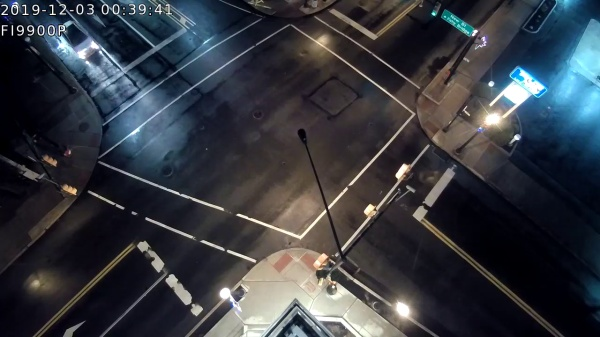car: (56, 15, 103, 60)
